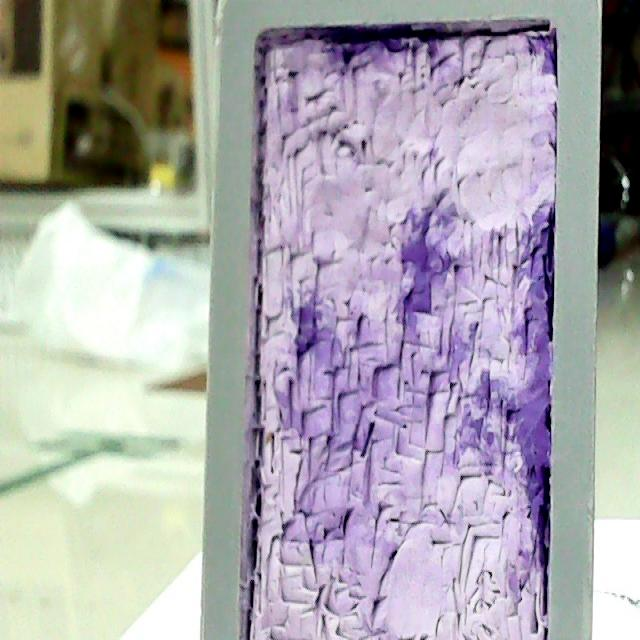block: (191, 0, 598, 640)
